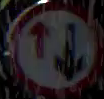Two way: (7, 2, 100, 87)
